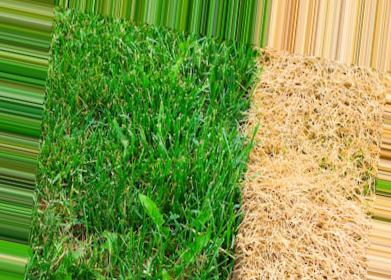patch: (258, 58, 359, 275)
